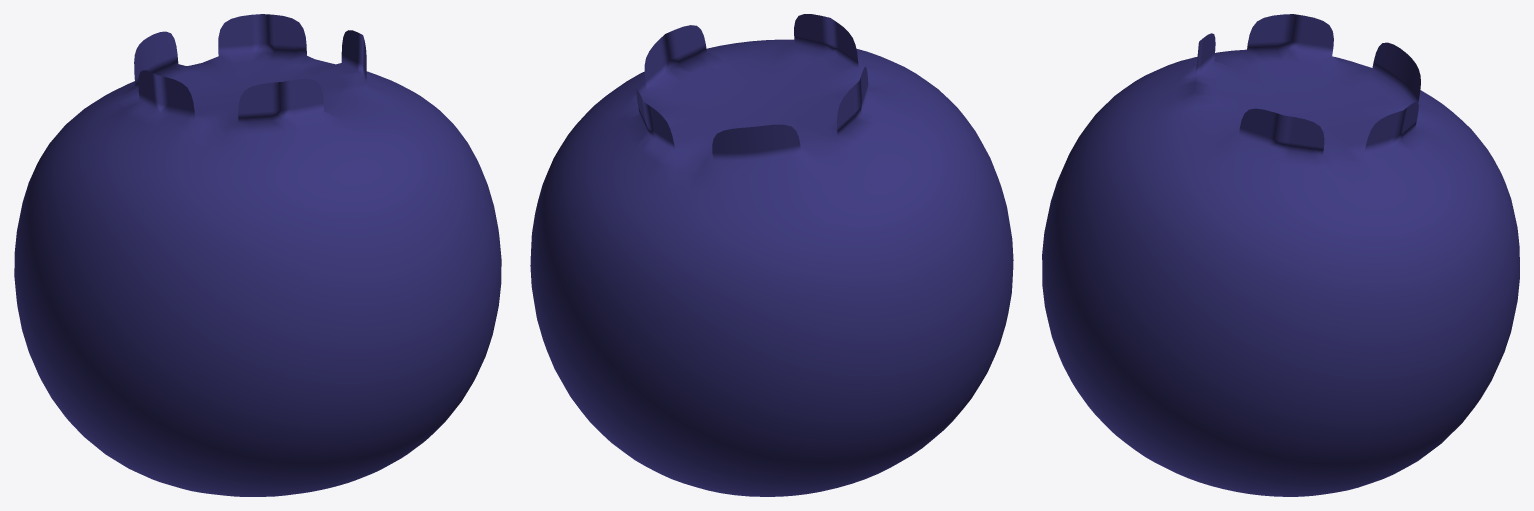
The model's file is blueberry.fbx.
3 renders of one model, left to right at view 1: azimuth 30°, elevation 25°; view 2: azimuth 150°, elevation 25°; view 3: azimuth 270°, elevation 25°, orthographic.
Parts seen in each view (by area): view 1: blue; view 2: blue; view 3: blue.
Boxes of the visible parts, bbox=[...] form: blue: bbox=[14, 14, 501, 496]; blue: bbox=[530, 14, 1013, 496]; blue: bbox=[1042, 14, 1519, 496].
Size of the model in its own units: 46.68 by 44.71 by 46.68.
